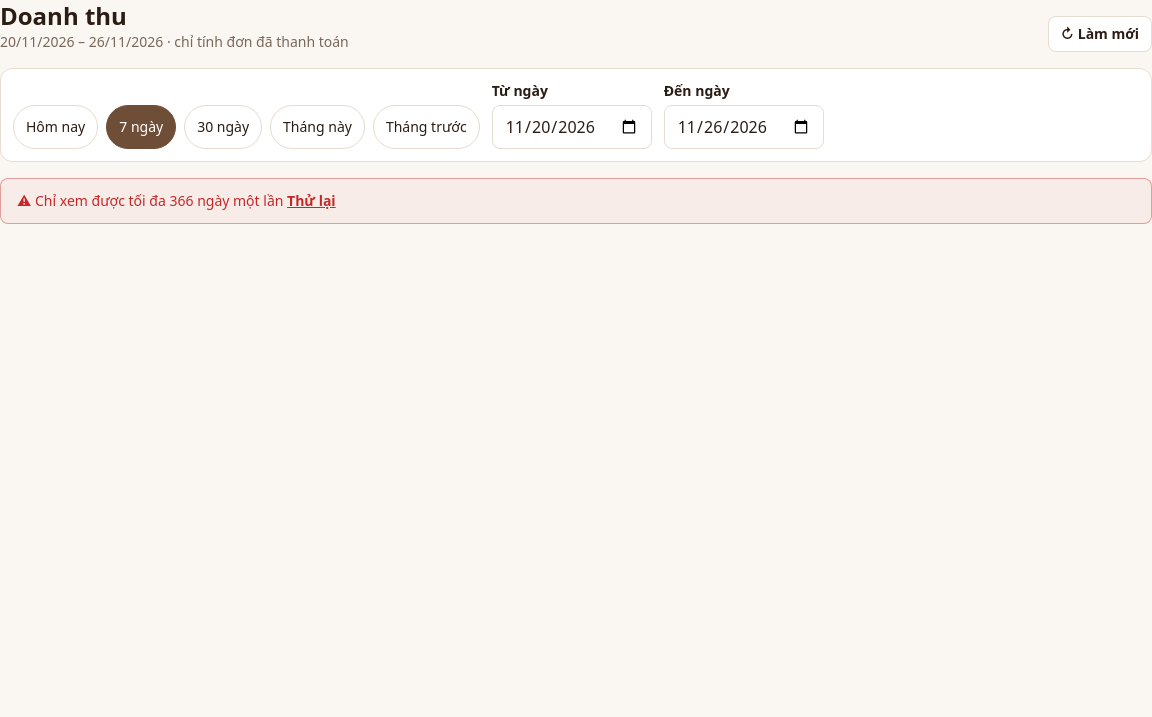
Test: Dashboard doanh thu (UC08) › lỗi từ server → hiện thông báo tiếng Việt + nút Thử lại
This screenshot has width=1152, height=717.
Expected: the message shows "Chỉ xem được tối đa 366 ngày một lần", [35, 191, 283, 210]
Click the button "Thử lại" at coordinates (311, 201), box [287, 191, 336, 211]
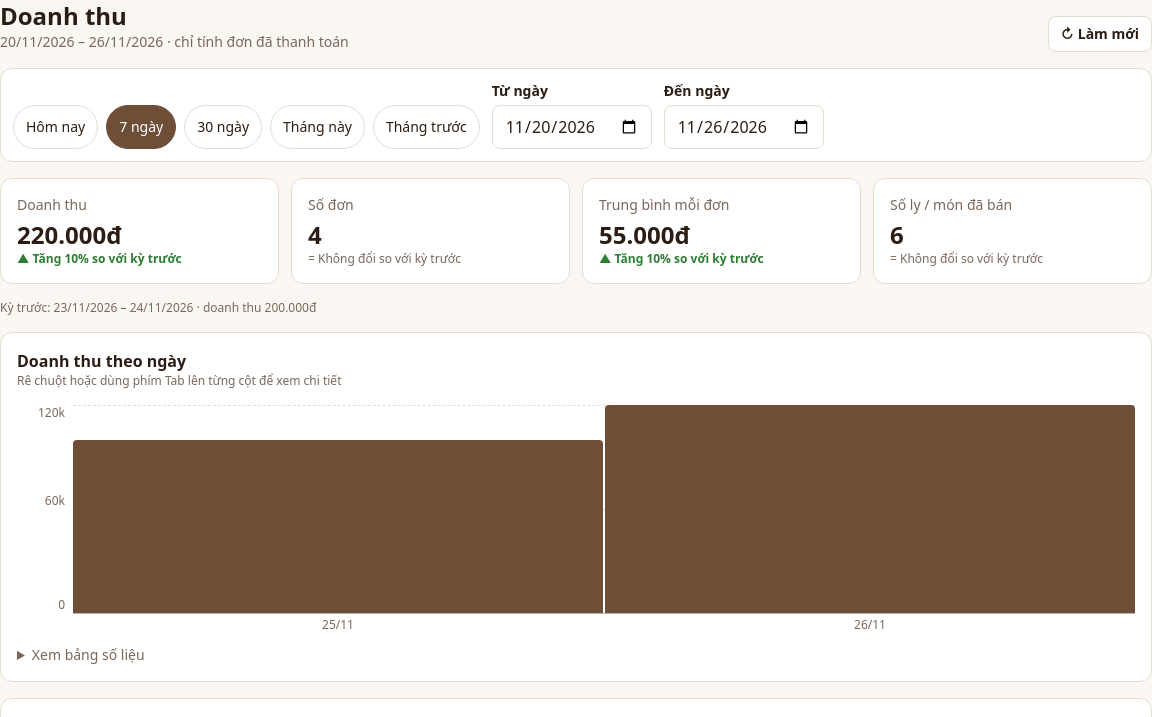
Expected: the heading "Doanh thu theo ngày" is shown, [17, 350, 186, 372]
